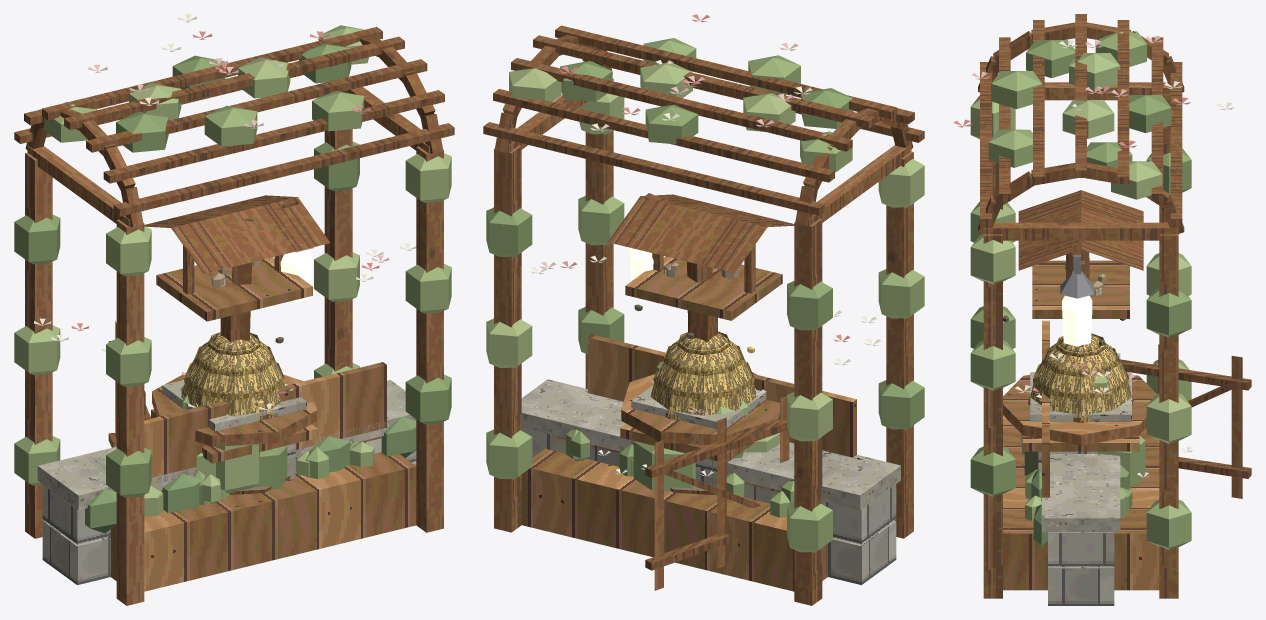
Rendered from props.glb.
3 views of the same model, side by side, from view 1: azimuth 30°, elevation 25°; view 2: azimuth 150°, elevation 25°; view 3: azimuth 270°, elevation 25° (orthographic). The views are drawn at different scales.
Visible parts, largest first — view 1: arbour-bench_Arbour, herb-bed_Bed, bird-table_Table, parapet-run_Stone, bee-skep_Skep, garden-table_Table, rose-bush_Bush, lantern-post_Post, parapet-post_Stone; view 2: arbour-bench_Arbour, herb-bed_Bed, parapet-run_Stone, bird-table_Table, bee-skep_Skep, garden-gate_Leaf, garden-table_Table, rose-bush_Bush, parapet-post_Stone, lantern-post_Post; view 3: arbour-bench_Arbour, parapet-run_Stone, herb-bed_Bed, bird-table_Table, bee-skep_Skep, garden-gate_Leaf, garden-table_Table, lantern-post_Post, rose-bush_Bush, parapet-post_Stone.
Part boxes in pixels (<box>): arbour-bench_Arbour: <box>14,14,454,605</box>; herb-bed_Bed: <box>106,441,416,591</box>; bird-table_Table: <box>144,195,330,342</box>; parapet-run_Stone: <box>37,380,416,585</box>; bee-skep_Skep: <box>151,332,317,463</box>; garden-table_Table: <box>152,372,316,446</box>; rose-bush_Bush: <box>180,372,293,498</box>; lantern-post_Post: <box>232,197,313,341</box>; parapet-post_Stone: <box>162,380,306,478</box>; arbour-bench_Arbour: <box>483,14,924,605</box>; herb-bed_Bed: <box>521,406,827,591</box>; parapet-run_Stone: <box>521,379,900,584</box>; bird-table_Table: <box>608,194,794,342</box>; bee-skep_Skep: <box>620,304,757,462</box>; garden-gate_Leaf: <box>645,396,789,590</box>; garden-table_Table: <box>621,372,779,445</box>; rose-bush_Bush: <box>633,361,779,491</box>; parapet-post_Stone: <box>631,385,766,495</box>; lantern-post_Post: <box>630,193,712,332</box>; arbour-bench_Arbour: <box>954,14,1234,598</box>; parapet-run_Stone: <box>1031,353,1120,605</box>; herb-bed_Bed: <box>1003,415,1192,590</box>; bird-table_Table: <box>1018,190,1143,318</box>; bee-skep_Skep: <box>1003,315,1139,451</box>; garden-gate_Leaf: <box>1119,344,1251,498</box>; garden-table_Table: <box>1003,374,1156,445</box>; lantern-post_Post: <box>1060,240,1094,346</box>; rose-bush_Bush: <box>1015,374,1145,488</box>; parapet-post_Stone: <box>1030,372,1131,470</box>.
Bounding box in the file's own units: 2.11 × 2.62 × 1.53.
Materials: 30 (10 with a texture image).
